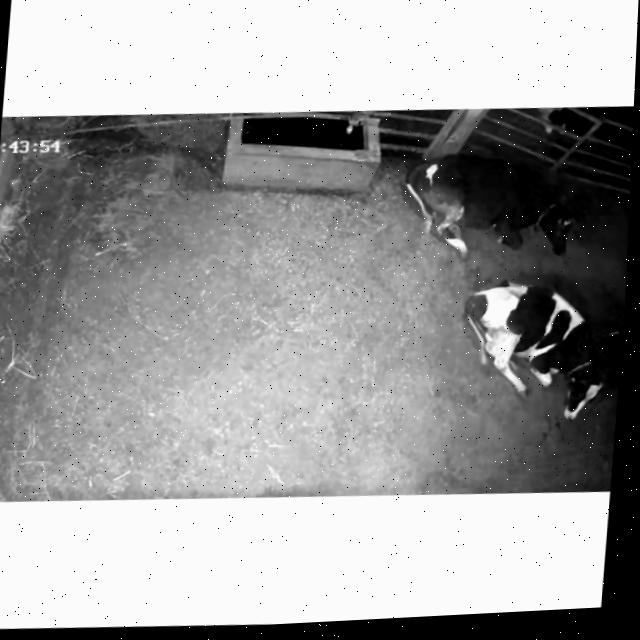lay: (440, 263, 627, 436), (396, 129, 608, 279)
